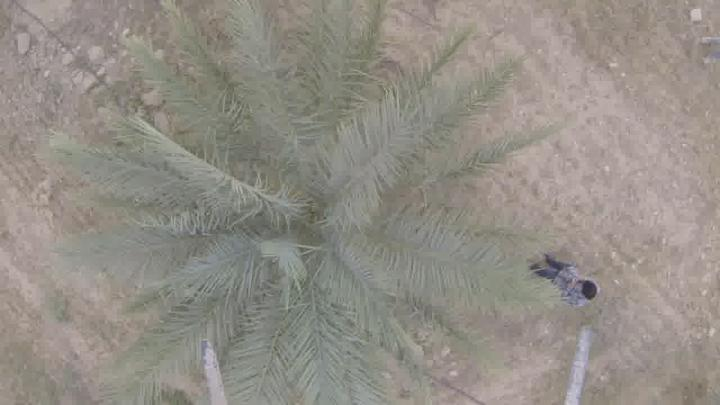Date-Palm-Crown: (160, 77, 452, 357)
